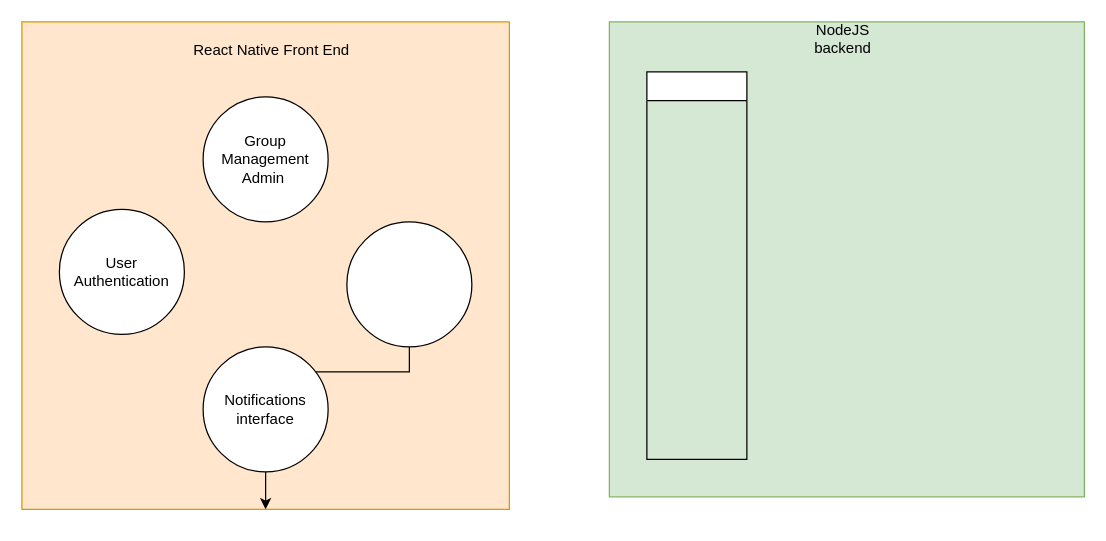
This 1106x541 diagram has some shape labels left out. Here are the shapes that lost their labels. From the top down, the centre of each, then its label:
At (409,284): "Main UI components".
At (696,265): "Express JS".
